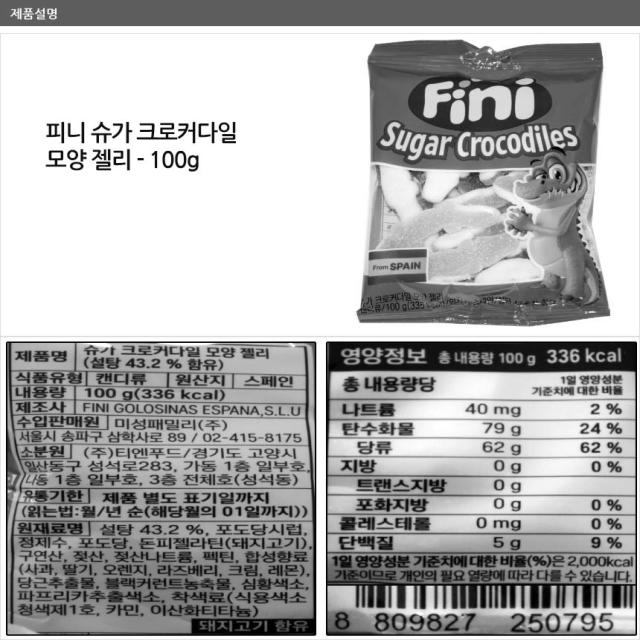Nutrition Label: (320, 337, 640, 587)
